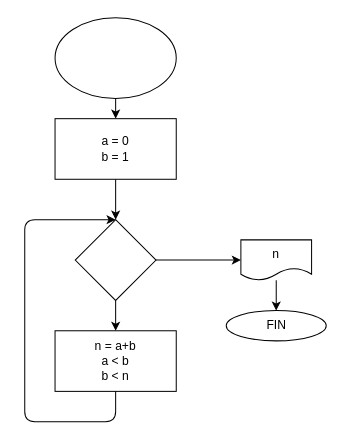
Some shapes in this 344 by 447 pixel diagram are drawn without their labels. Each missing label, with the box of its shape:
INICIO: (54, 17, 176, 98)
n < 1000: (74, 219, 156, 300)
